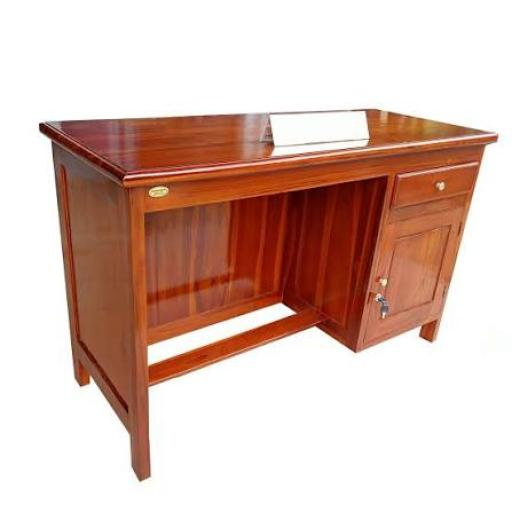meja: (39, 104, 502, 483)
